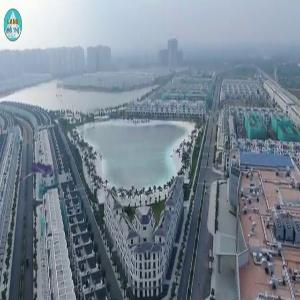drone: (8, 143, 75, 210)
